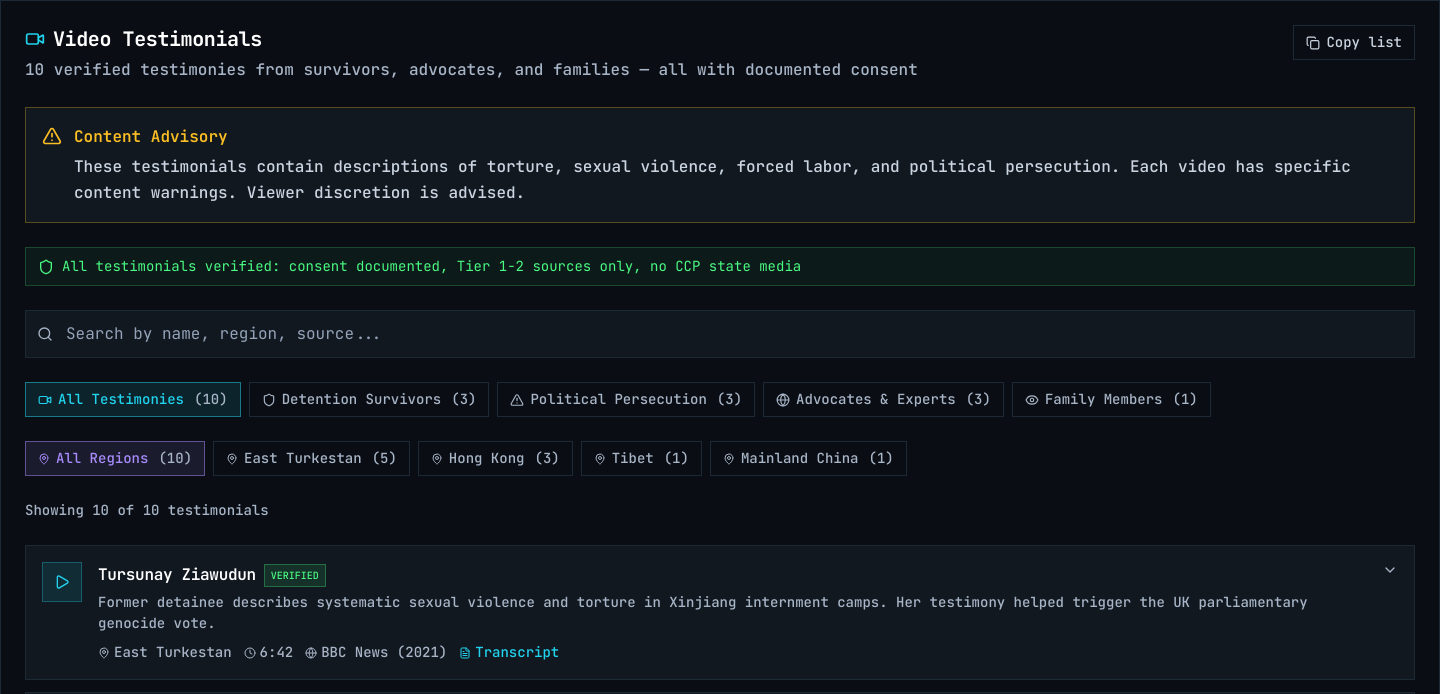
Test: VideoTestimonials › clicking an expanded card collapses it
Click the button with aria-label "Tursunay Ziawudun — BBC News, 2021" at (720, 612), box [26,546,1414,679]
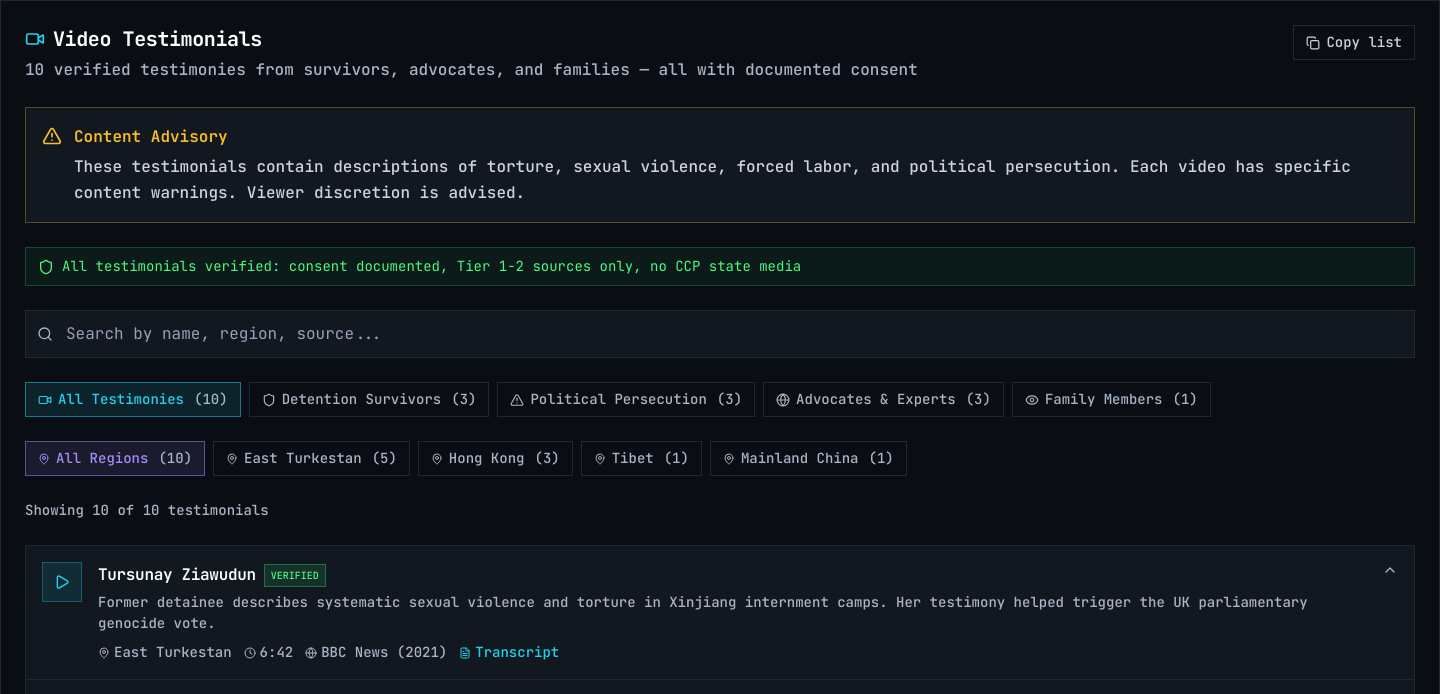
Check: the button with aria-label "Tursunay Ziawudun — BBC News, 2021" is expanded
Click the button with aria-label "Tursunay Ziawudun — BBC News, 2021" at (720, 612), box [26,546,1414,679]
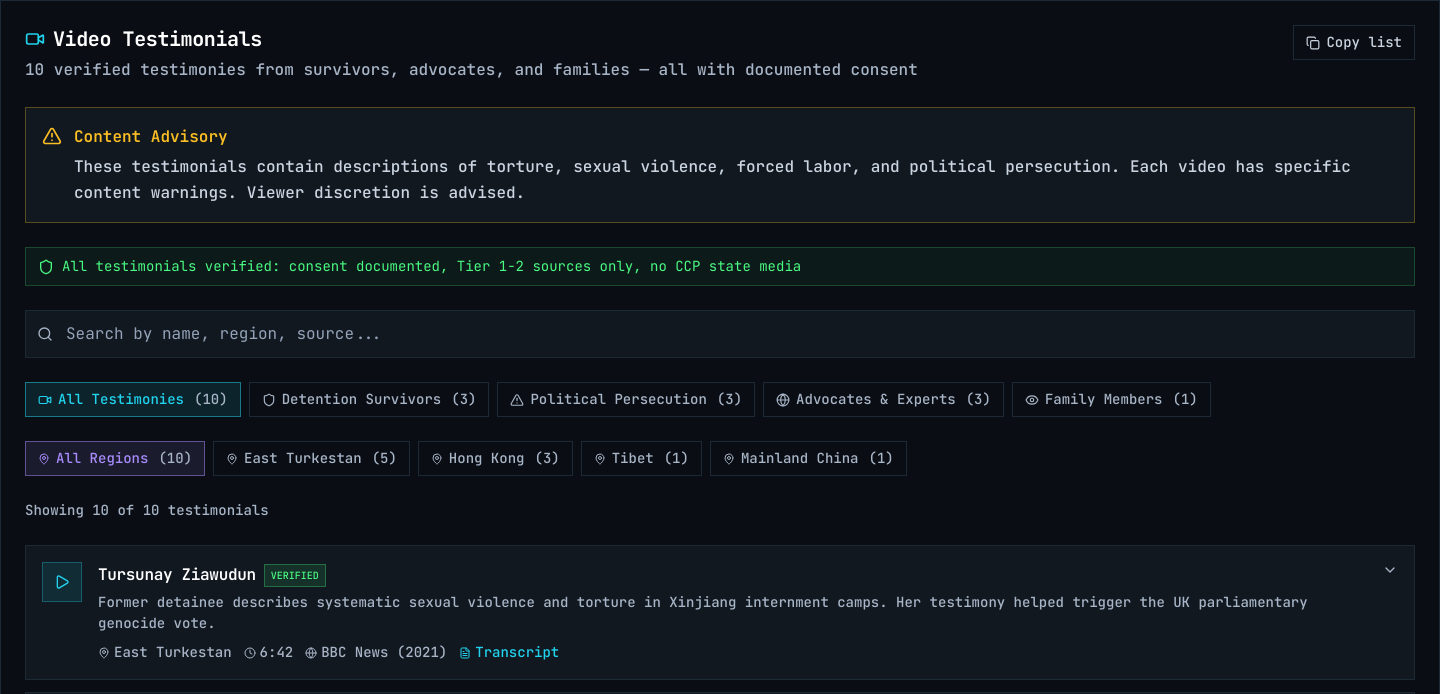
Check: the button with aria-label "Tursunay Ziawudun — BBC News, 2021" is collapsed, box [26,546,1414,679]
